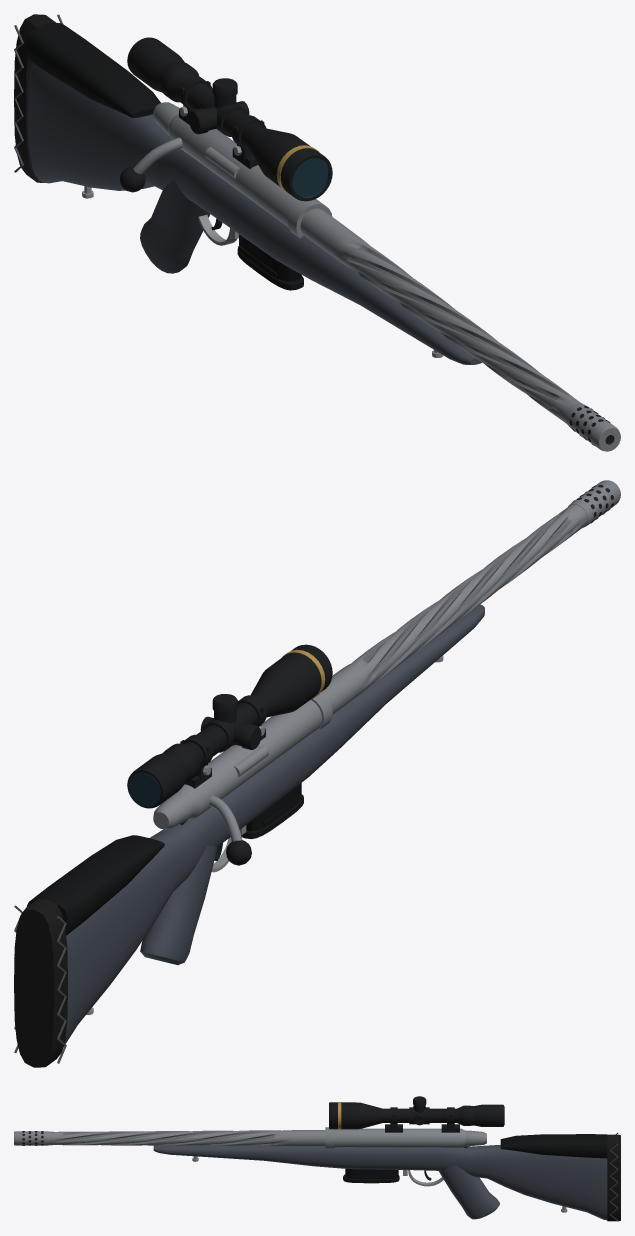
Rendered from marksman.glb.
The picture shows the model from 3 angles, top to bottom: view 1: azimuth 30°, elevation 25°; view 2: azimuth 150°, elevation 25°; view 3: azimuth 270°, elevation 25°; orthographic projection. The views are drawn at different scales.
Visible parts, largest first — view 1: body, bolt, mag; view 2: body, bolt, mag; view 3: body, mag, bolt.
Part boxes in pixels (x1,y1,x2,y2): body: (14,14,620,451); bolt: (119,102,239,192); mag: (237,234,303,290); body: (14,480,620,1067); bolt: (153,745,268,865); mag: (241,783,303,839); body: (14,1096,620,1221); mag: (343,1169,399,1183); bolt: (465,1130,486,1146).
Bounding box in the file's own units: 0.0935 × 0.2362 × 1.07.
